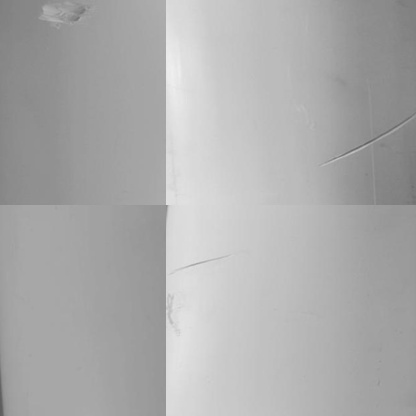sunshang: (318, 107, 410, 174), (35, 1, 89, 31)
